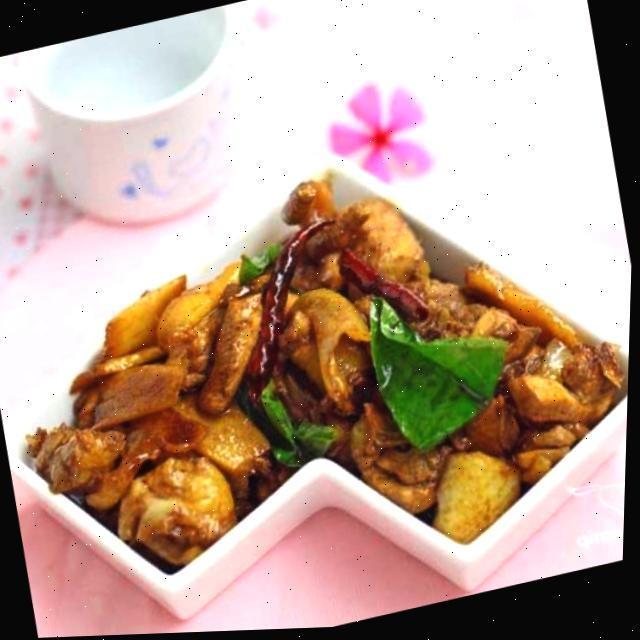鸡肉料理 含炸鸡: (0, 68, 638, 640)
